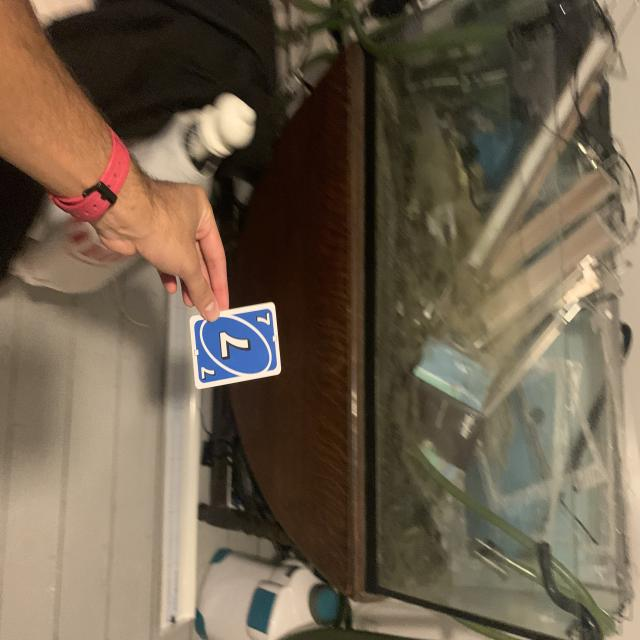lblue-7: (253, 310, 272, 329)
